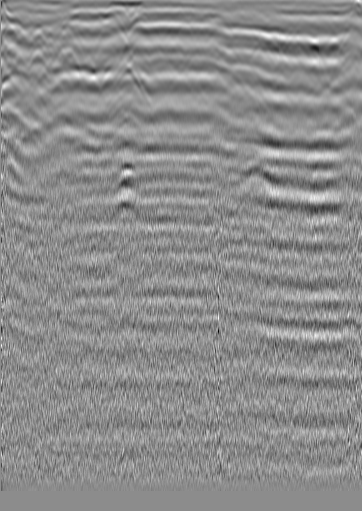가스: (109, 159, 142, 196)
상수: (30, 20, 50, 40)
오수: (310, 33, 330, 53)
우수: (153, 18, 173, 38)
